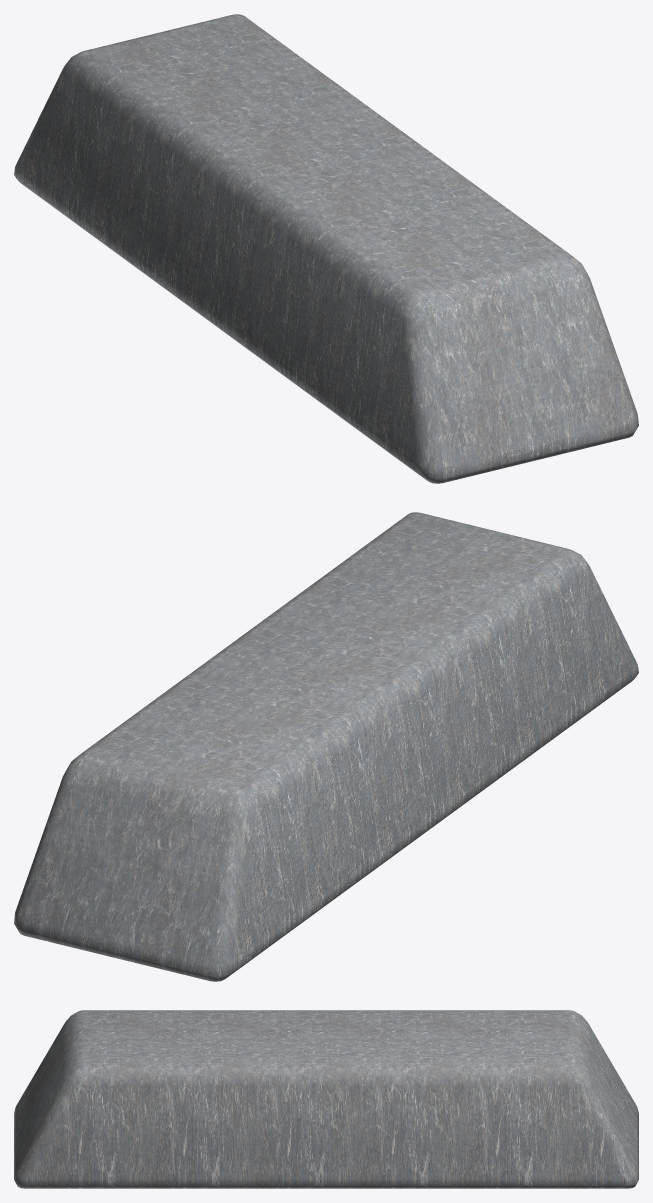
The model's file is Steel_Ingot.FBX.
3 views of the same model, one above another, from view 1: azimuth 30°, elevation 25°; view 2: azimuth 150°, elevation 25°; view 3: azimuth 270°, elevation 25° (orthographic). The views are drawn at different scales.
Visible parts, largest first — view 1: Steel; view 2: Steel; view 3: Steel.
Boxes of the visible parts, x1=… form: Steel: x1=14, y1=14, x2=638, y2=483; Steel: x1=14, y1=512, x2=638, y2=981; Steel: x1=14, y1=1010, x2=638, y2=1188.
Size of the model in its own units: 5.85 by 4 by 19.62.
1 material, 1 textured.
